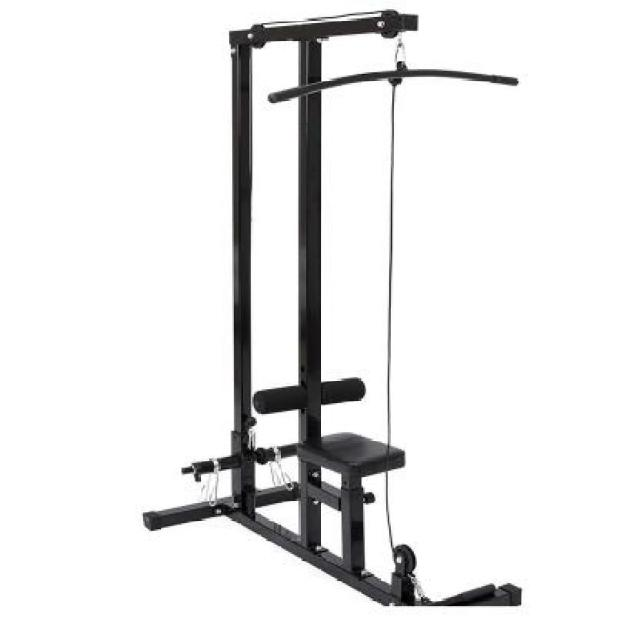Lat Pull Down: (133, 9, 564, 611)
